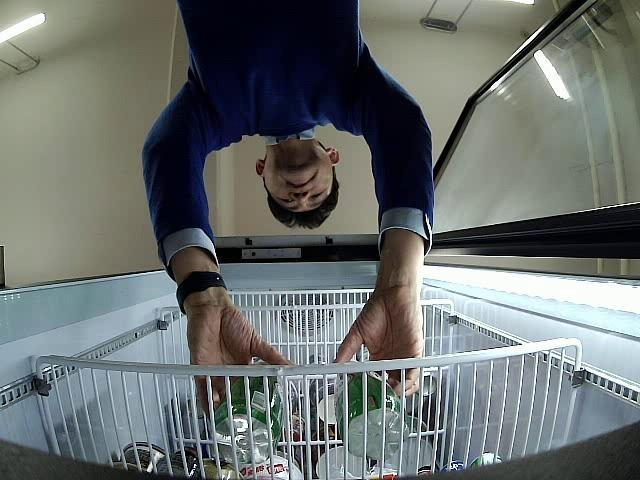18_trevi: (212, 358, 282, 466), (336, 360, 401, 460)
